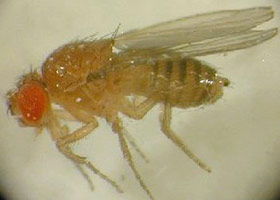Fruit fly: (16, 17, 218, 194)
